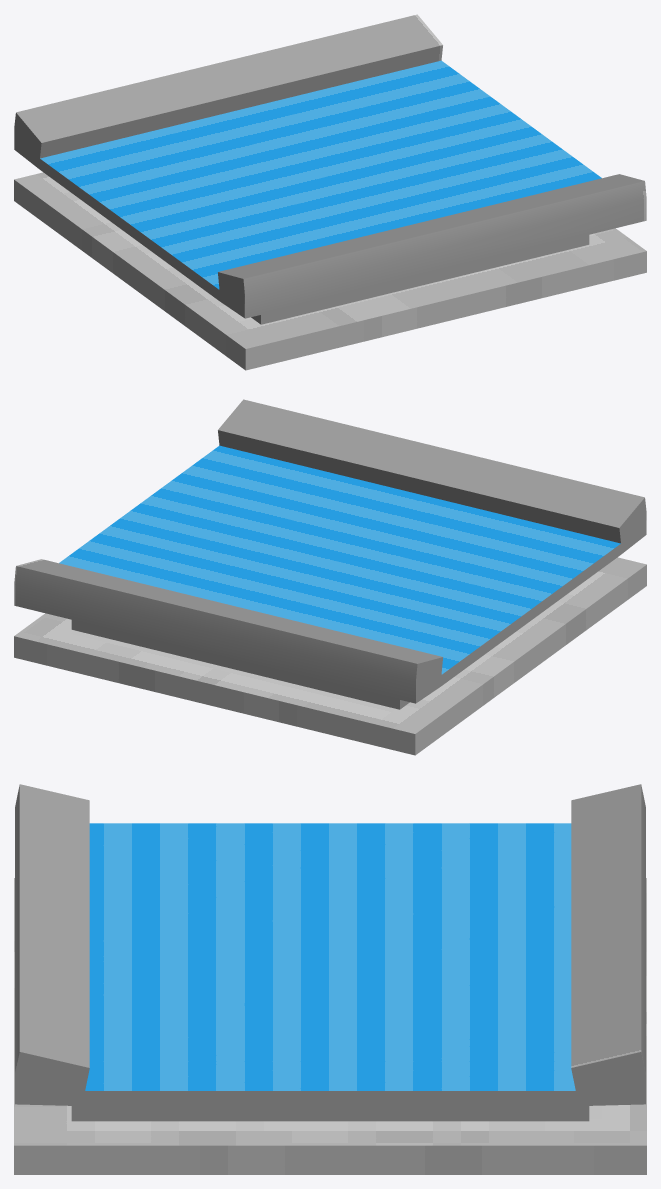
Rendered from solar_panel_energized.obj.
3 renders of one model, top to bottom at view 1: azimuth 30°, elevation 25°; view 2: azimuth 150°, elevation 25°; view 3: azimuth 270°, elevation 25°, orthographic. The views are drawn at different scales.
Parts seen in each view (by area): view 1: solarPanel; view 2: solarPanel; view 3: solarPanel.
Part boxes in pixels (x1,y1,x2,y2): solarPanel: (14, 14, 646, 370); solarPanel: (14, 399, 646, 755); solarPanel: (14, 784, 646, 1174).
Bounding box in the file's own units: 1 × 0.2146 × 1.
